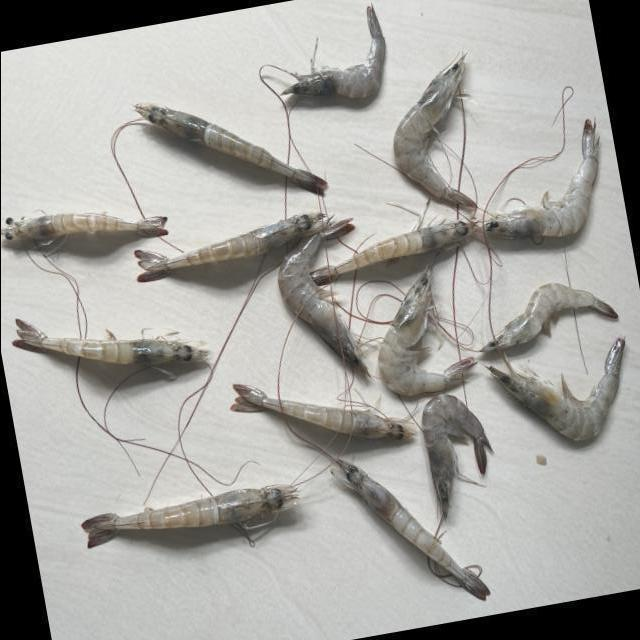shrimp: (331, 460, 490, 601), (134, 102, 326, 195), (277, 219, 370, 377), (488, 337, 626, 441), (484, 118, 599, 238), (81, 486, 298, 549), (133, 212, 324, 282), (378, 262, 476, 396), (393, 54, 476, 208), (310, 220, 478, 285), (230, 384, 416, 440), (281, 5, 385, 97), (481, 283, 619, 352), (11, 319, 207, 366), (422, 395, 492, 520), (0, 212, 166, 240)
